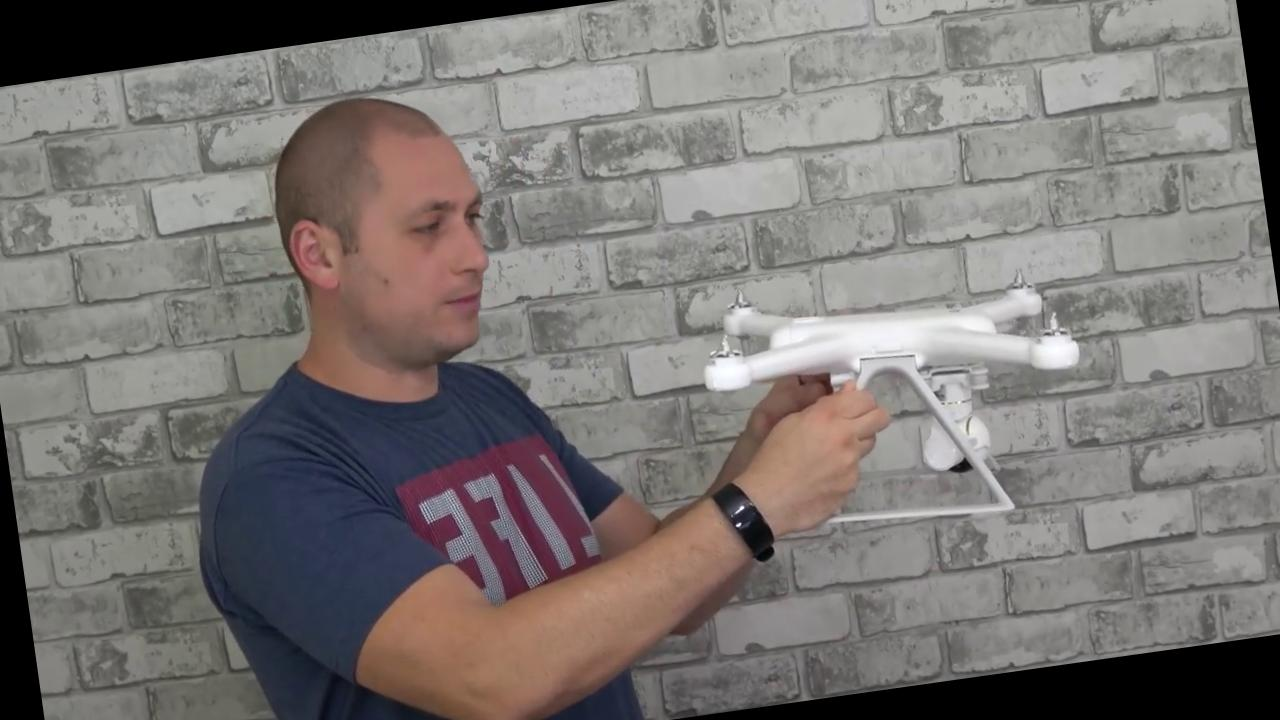drone: (642, 250, 1092, 415)
